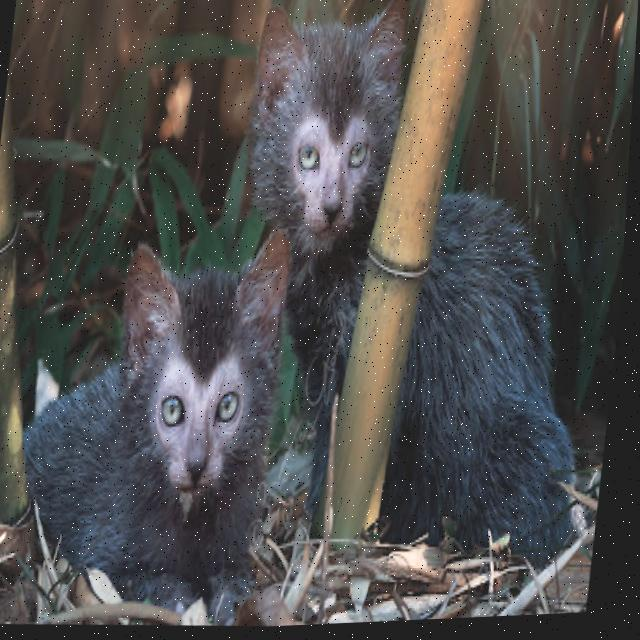Lykoi: (203, 0, 635, 579), (0, 210, 305, 638)
